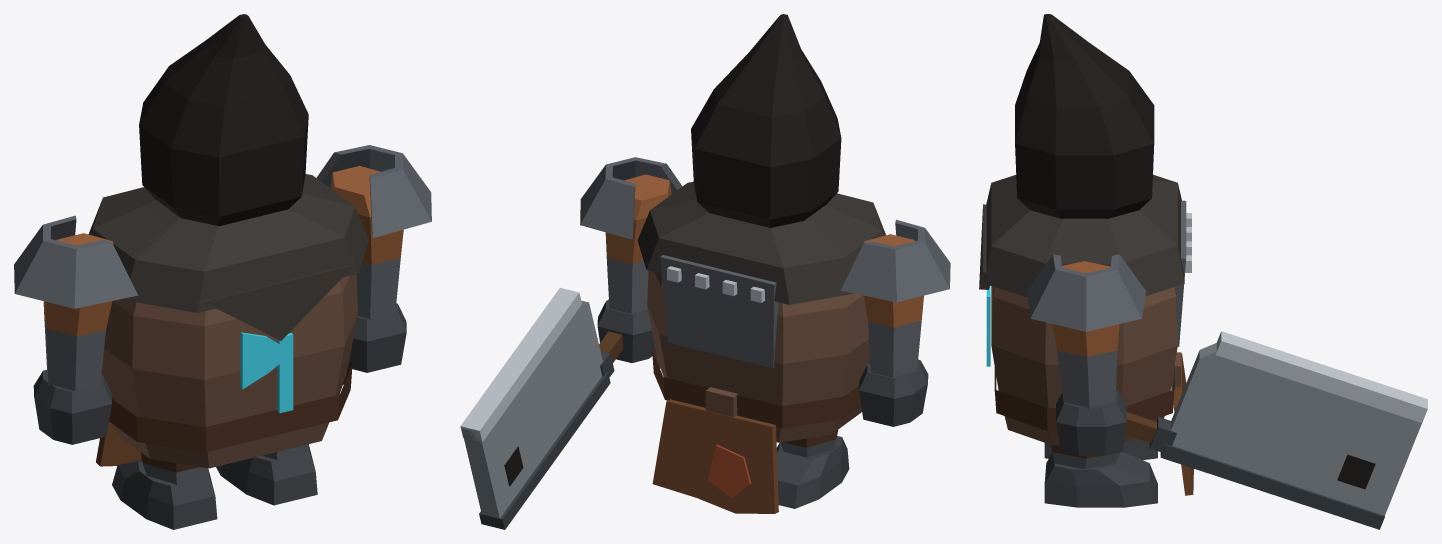
Rendered from CH_MurderMachine.fbx.
The picture shows the model from 3 angles, left to right: view 1: azimuth 30°, elevation 25°; view 2: azimuth 150°, elevation 25°; view 3: azimuth 270°, elevation 25°; orthographic projection. The views are drawn at different scales.
Parts seen in each view (by area): view 1: Body, Head, ArmL, ArmR, LegL, LegR; view 2: Body, ArmR, Head, ArmL, LegL; view 3: ArmR, Body, Head, LegR, LegL.
Part boxes in pixels (x1=…): Body: x1=88, y1=174, x2=368, y2=468; Head: x1=139, y1=14, x2=308, y2=226; ArmL: x1=14, y1=215, x2=137, y2=444; ArmR: x1=316, y1=145, x2=431, y2=372; LegL: x1=112, y1=452, x2=217, y2=529; LegR: x1=216, y1=444, x2=317, y2=505; Body: x1=637, y1=181, x2=885, y2=513; ArmR: x1=460, y1=157, x2=682, y2=529; Head: x1=691, y1=14, x2=841, y2=227; ArmL: x1=840, y1=219, x2=950, y2=426; LegL: x1=776, y1=430, x2=849, y2=508; ArmR: x1=1026, y1=254, x2=1427, y2=529; Body: x1=979, y1=174, x2=1193, y2=495; Head: x1=1015, y1=14, x2=1154, y2=218; LegR: x1=1044, y1=445, x2=1157, y2=507; LegL: x1=1044, y1=438, x2=1157, y2=460.
Size of the model in its own units: 1.93 by 1.95 by 2.2.
